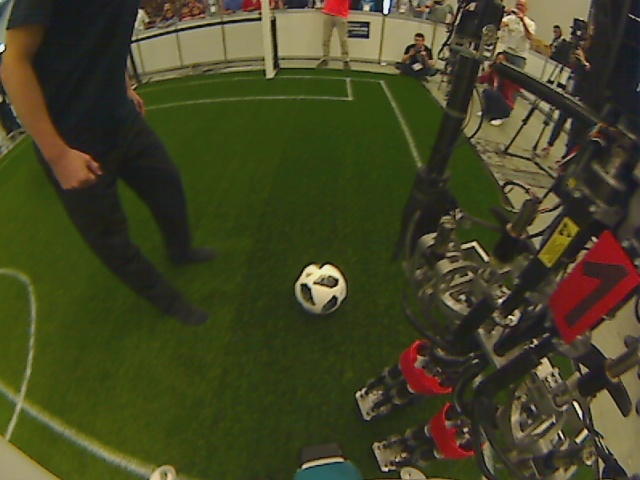ball: (292, 262, 349, 317)
goalpost: (134, 1, 278, 81)
robot: (356, 3, 640, 468)
